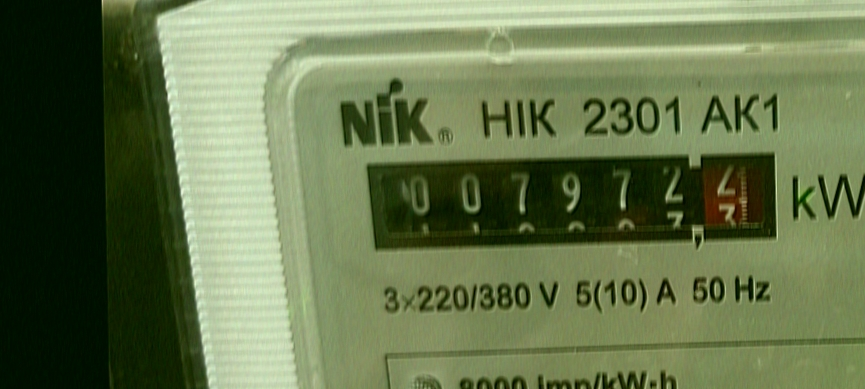0: (406, 173, 433, 214), (458, 171, 483, 213)
2: (661, 164, 685, 203), (713, 163, 736, 197)
3: (715, 201, 738, 226)
7: (609, 166, 635, 212), (508, 169, 533, 215)
9: (559, 169, 582, 212)
screen: (350, 140, 794, 264)
